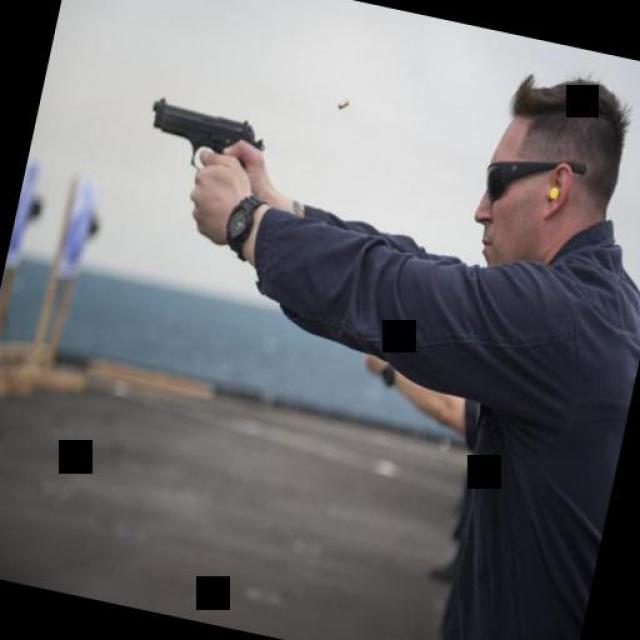gun: (138, 92, 268, 186)
